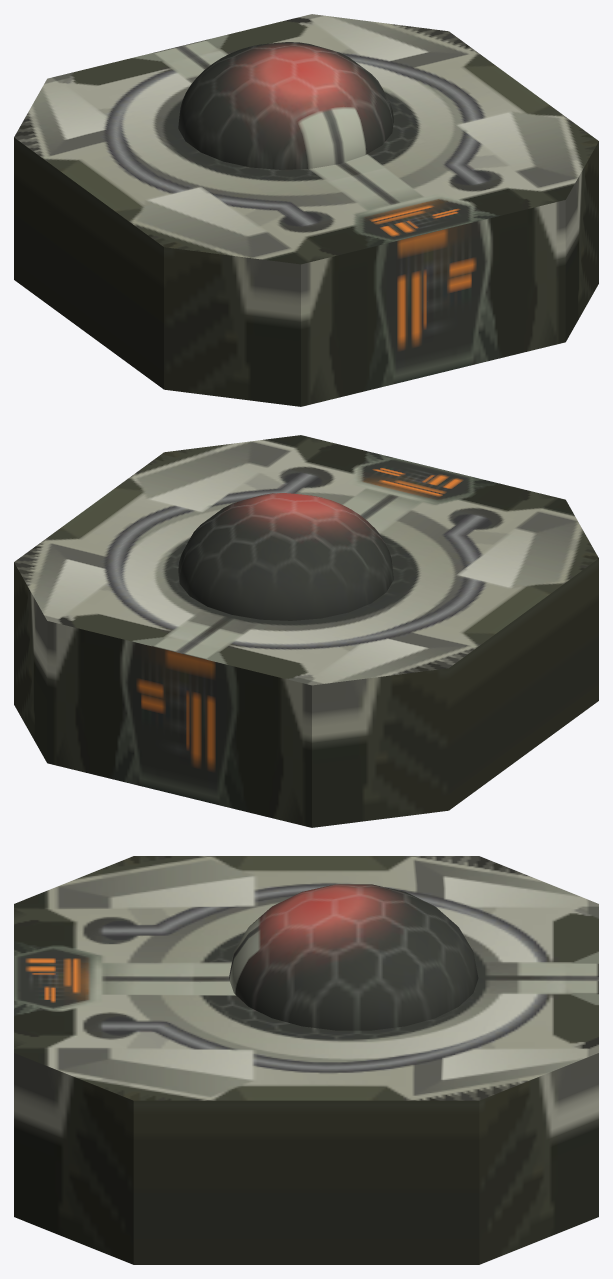
Rendered from Building_CerebrexStabilizer.obj.
The picture shows the model from 3 angles, top to bottom: view 1: azimuth 30°, elevation 25°; view 2: azimuth 150°, elevation 25°; view 3: azimuth 270°, elevation 25°; orthographic projection. The views are drawn at different scales.
Visible parts, largest first — view 1: Body; view 2: Body; view 3: Body.
Boxes of the visible parts, bbox=[...] form: Body: bbox=[14, 14, 598, 406]; Body: bbox=[14, 435, 598, 827]; Body: bbox=[14, 856, 598, 1264].
Bounding box in the file's own units: 2.88 × 1.33 × 2.91.
Materials: 1 (1 with a texture image).
